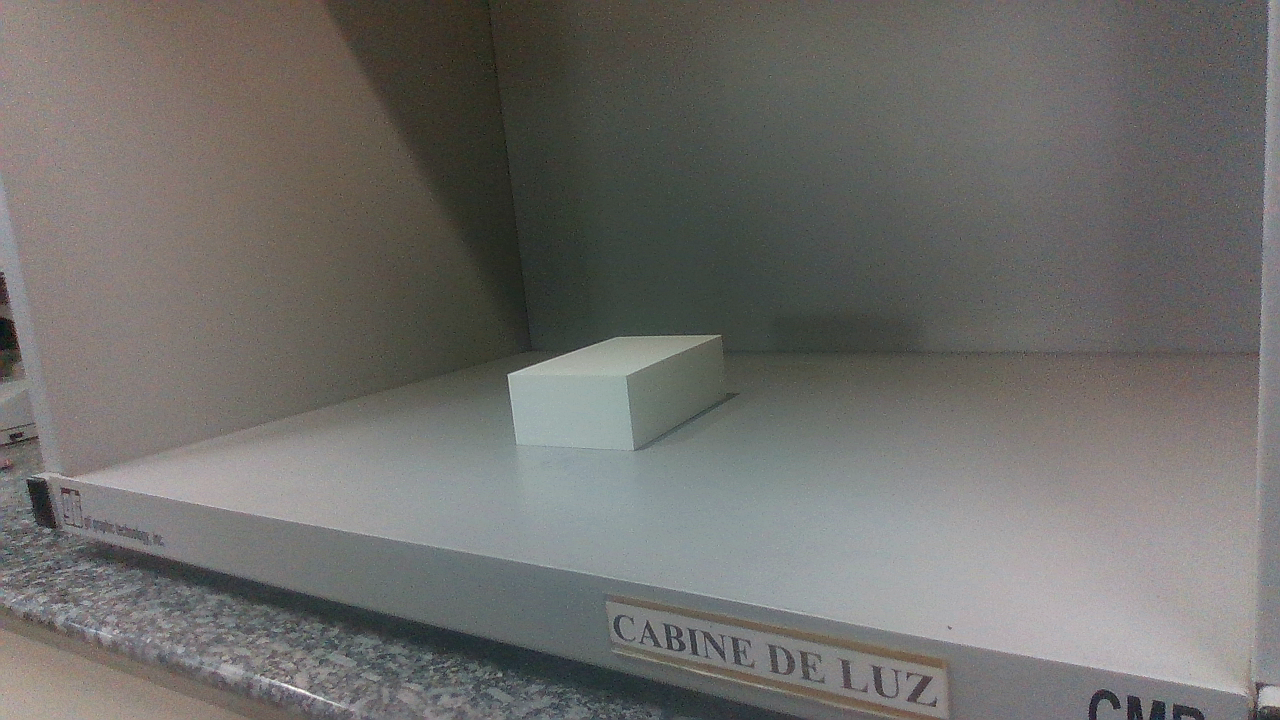Retangulo: (502, 334, 725, 450)
